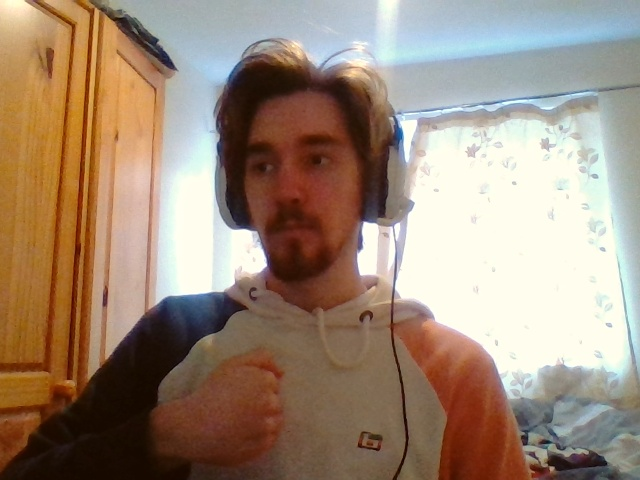morning: (178, 348, 283, 462)
